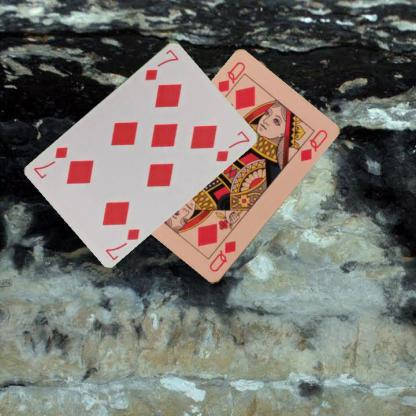7d: (102, 225, 141, 261), (142, 46, 180, 82)
Qd: (215, 59, 247, 102), (206, 238, 238, 274)
